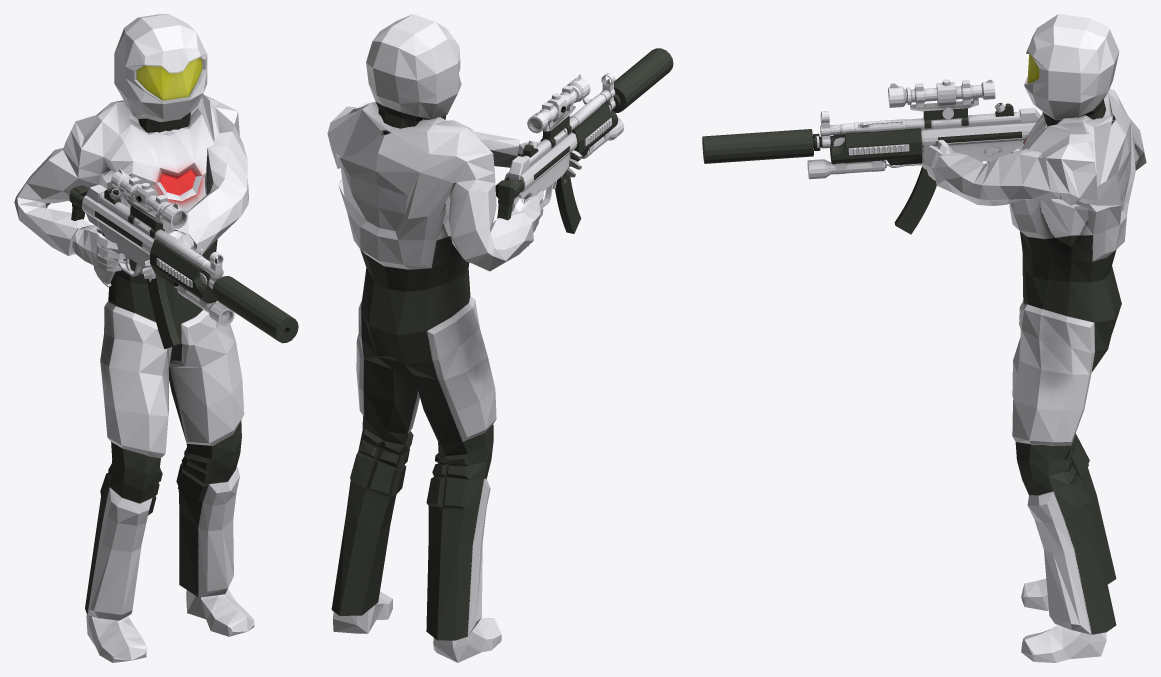
File: attack2.obj
The picture shows the model from 3 angles, left to right: view 1: azimuth 30°, elevation 25°; view 2: azimuth 150°, elevation 25°; view 3: azimuth 270°, elevation 25°; orthographic projection.
Parts seen in each view (by area): view 1: Male001Skin_001, Object001; view 2: Male001Skin_001, Object001; view 3: Male001Skin_001, Object001.
Part boxes in pixels (left/top/right/bottom): Male001Skin_001: left=14, top=14, right=254, bottom=662; Object001: left=69, top=169, right=298, bottom=349; Male001Skin_001: left=327, top=14, right=582, bottom=662; Object001: left=495, top=48, right=673, bottom=246; Male001Skin_001: left=921, top=14, right=1146, bottom=662; Object001: left=702, top=79, right=1040, bottom=234.
Bounding box in the file's own units: 624 × 1870 × 1242.
Materials: 1 (1 with a texture image).
